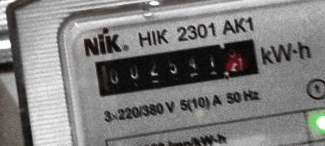0: (104, 63, 120, 86), (125, 58, 140, 81)
1: (203, 49, 217, 70)
2: (145, 56, 159, 78)
4: (184, 50, 199, 72)
5: (163, 53, 178, 76)
6: (227, 57, 240, 74)
screen: (82, 28, 270, 106)
